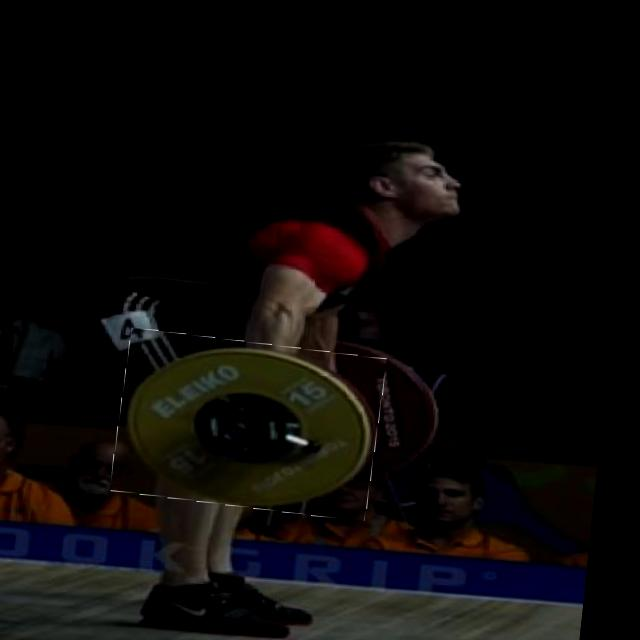barbell: (122, 327, 395, 512)
